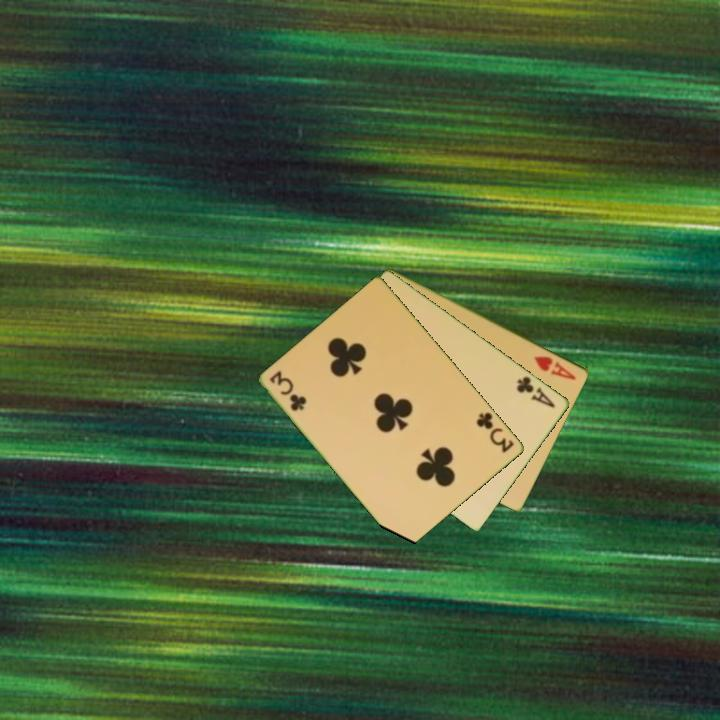3c: (473, 409, 517, 456), (266, 367, 309, 414)
Ac: (513, 373, 558, 411)
Ah: (531, 352, 579, 383)
